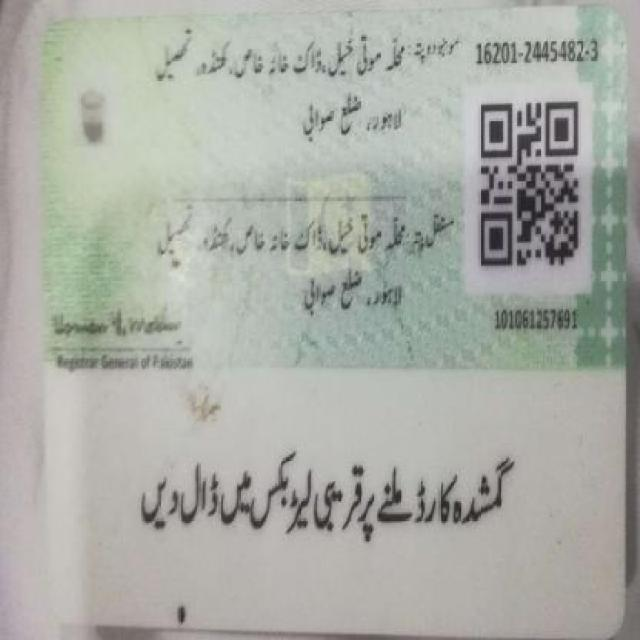Back: (32, 8, 631, 628)
